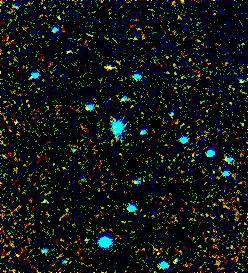star: (91, 51, 121, 81)
